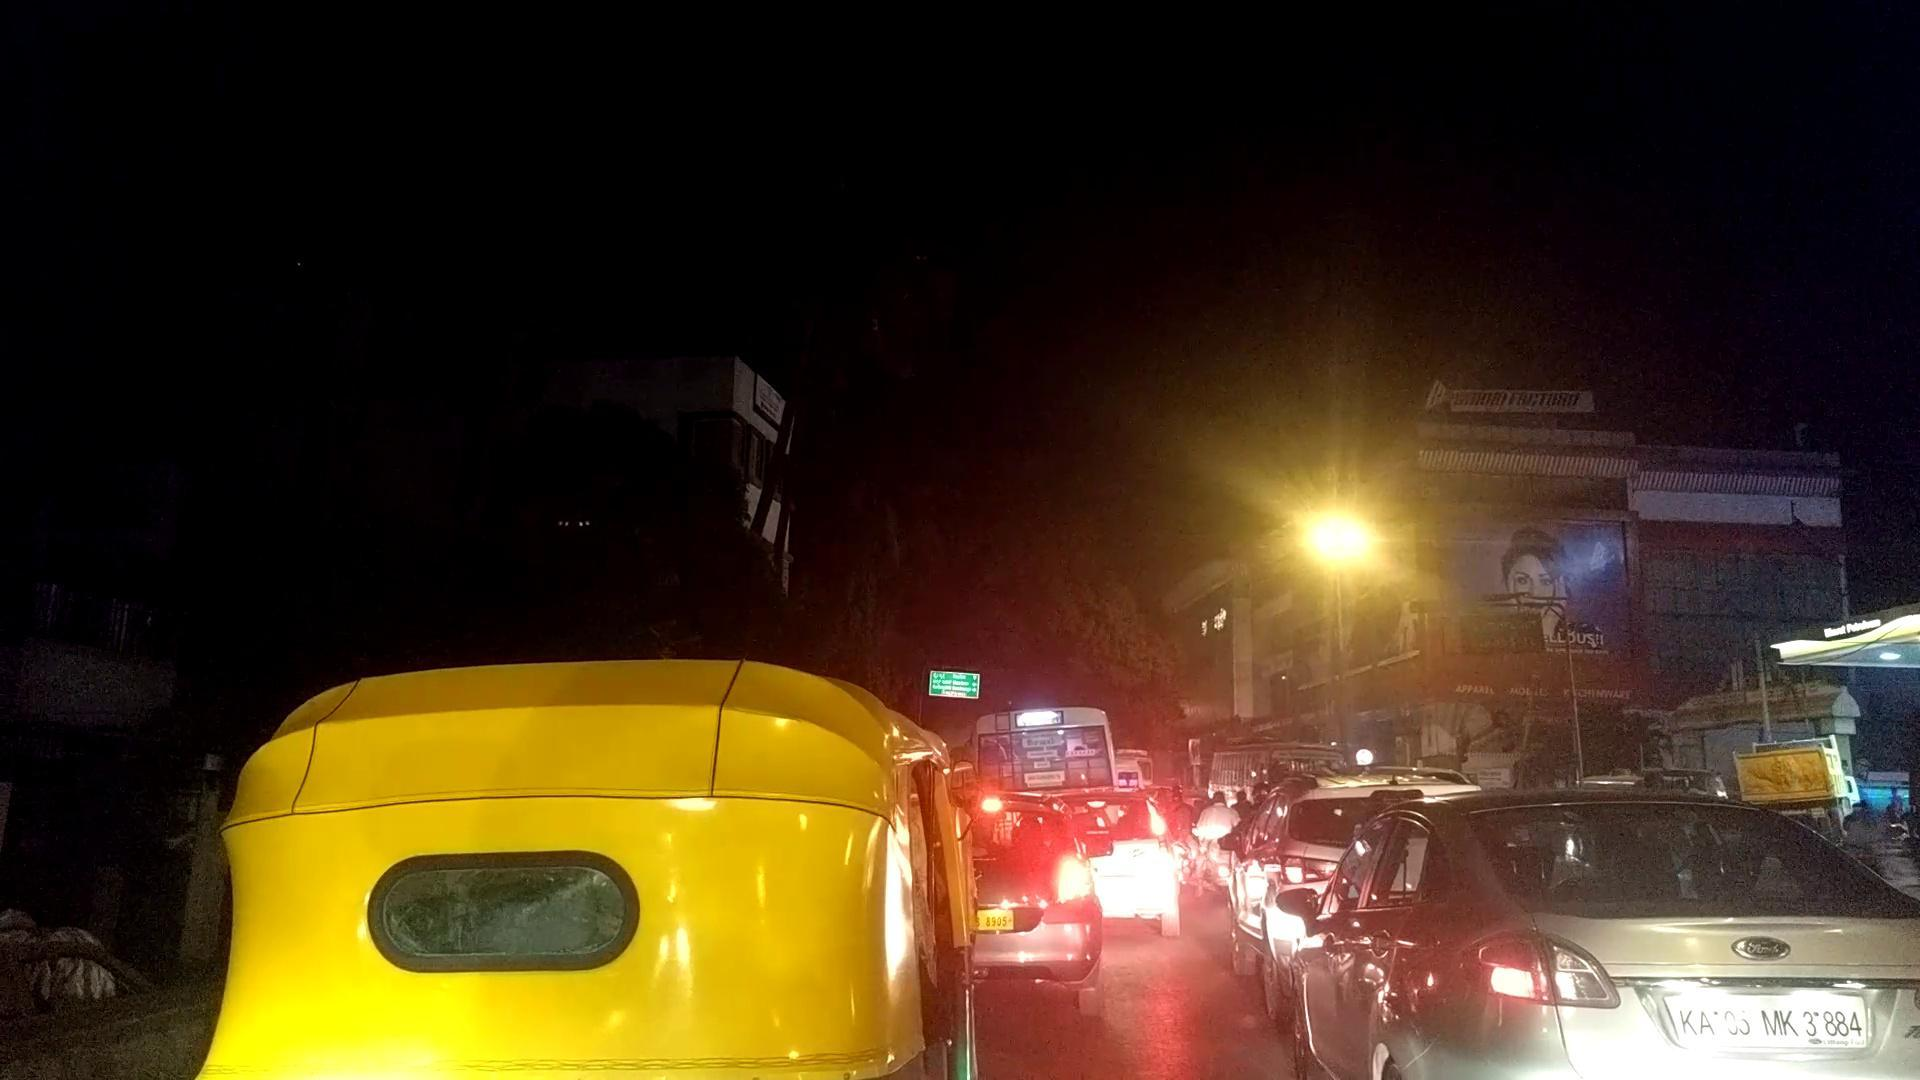on: (1060, 363, 1598, 691)
